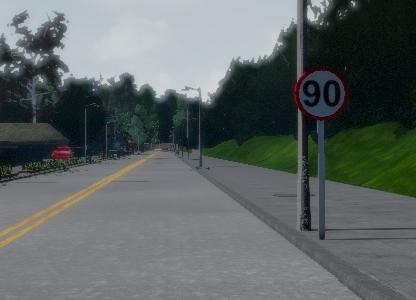Speed_90: (293, 64, 348, 121)
